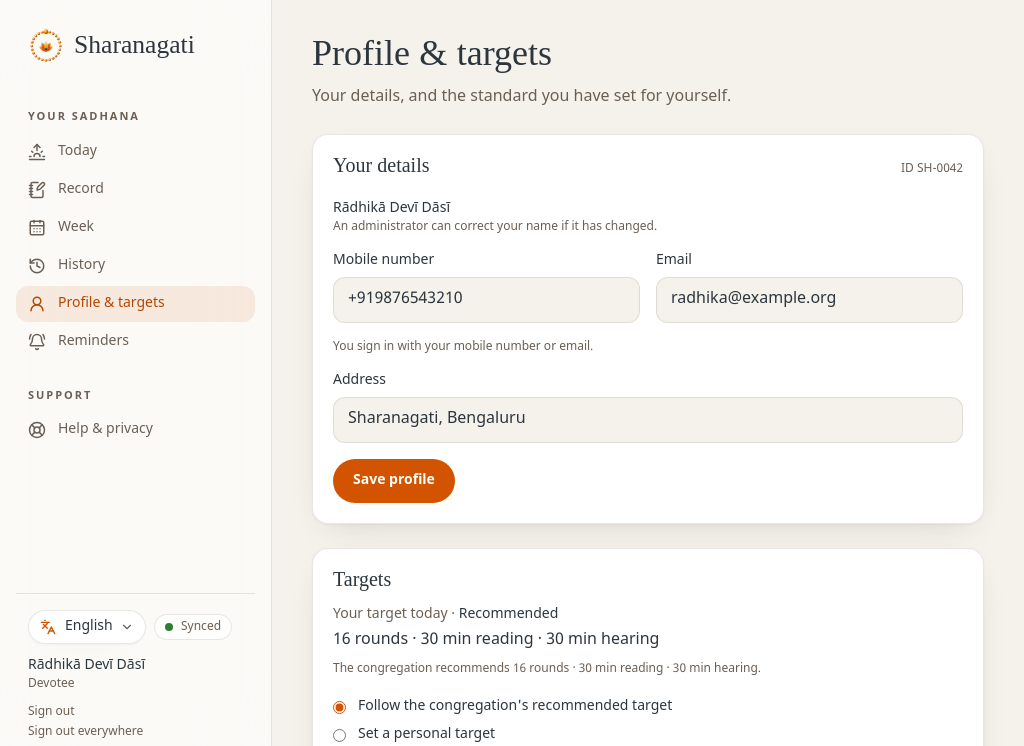
Test: ProfileScreen › sets a personal target from today
Step 1. Click the radio button labelled "Set a personal target" → (340,735), box top-left (333, 728), bottom-right (346, 742)
(page scrolled)
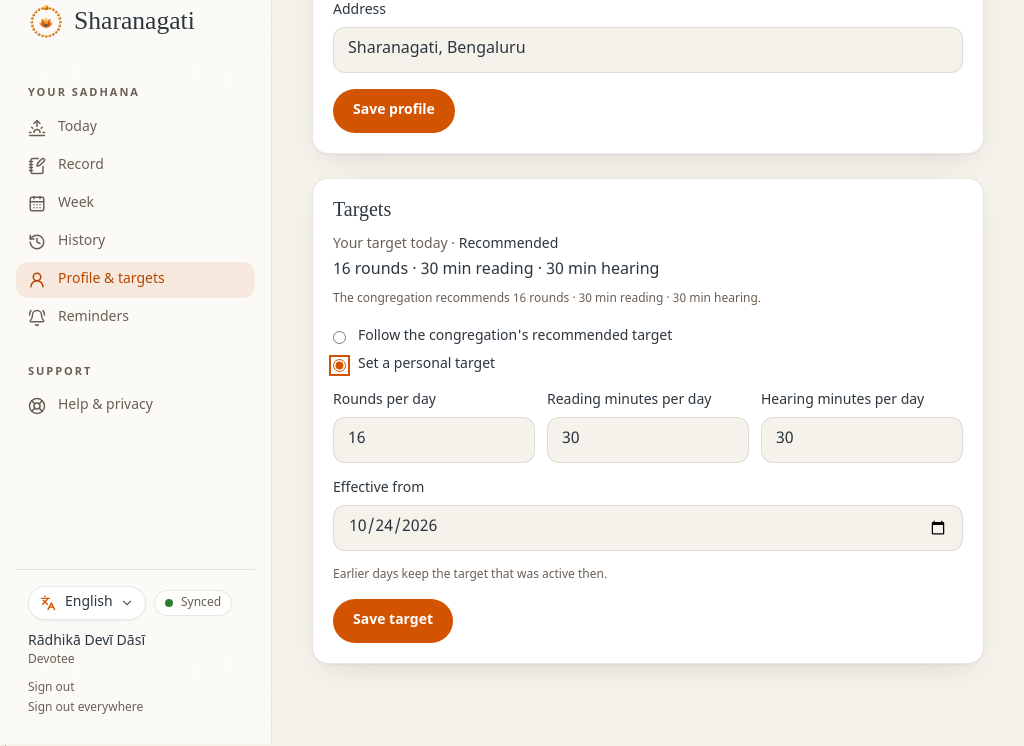
Step 2. Replace the text in the number field labelled "Rounds per day" with "8" → (434,440), box top-left (333, 417), bottom-right (535, 463)
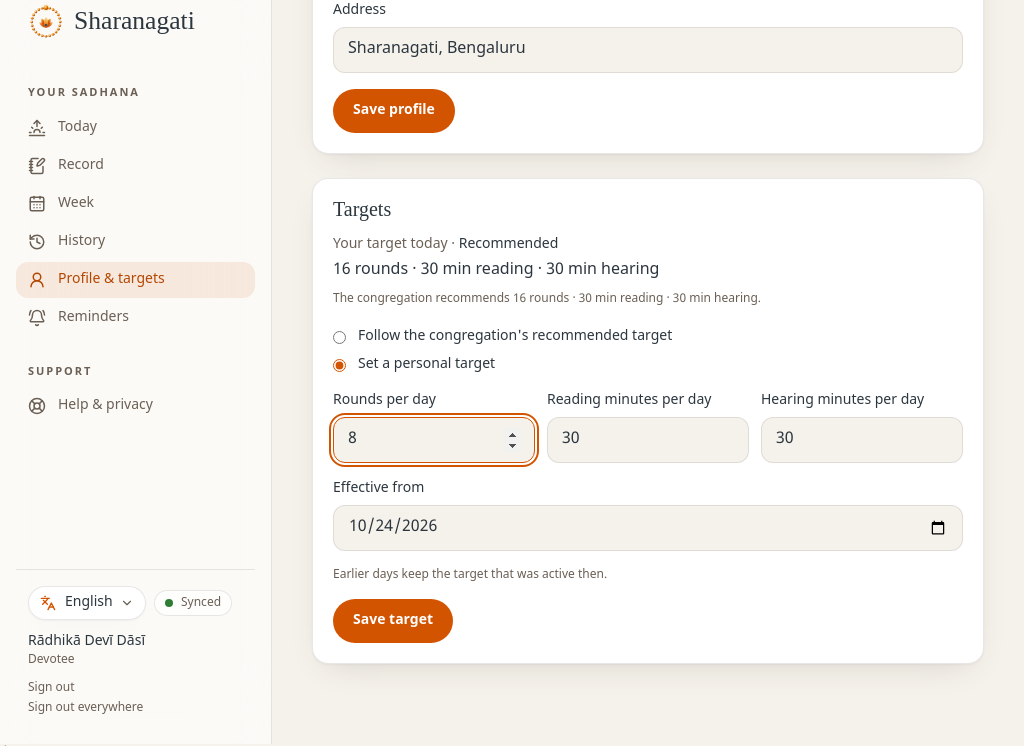
Step 3. Replace the text in the number field labelled "Reading minutes per day" with "15" → (648,440), box top-left (547, 417), bottom-right (749, 463)
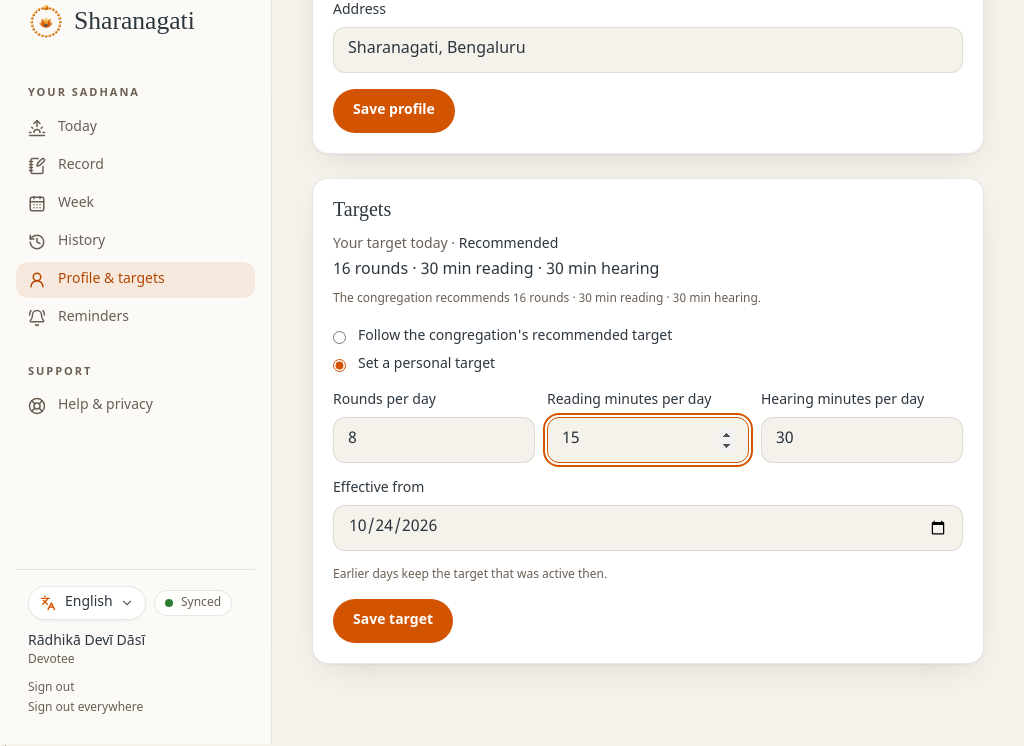
Step 4. Replace the text in the number field labelled "Hearing minutes per day" with "15" → (862,440), box top-left (761, 417), bottom-right (963, 463)
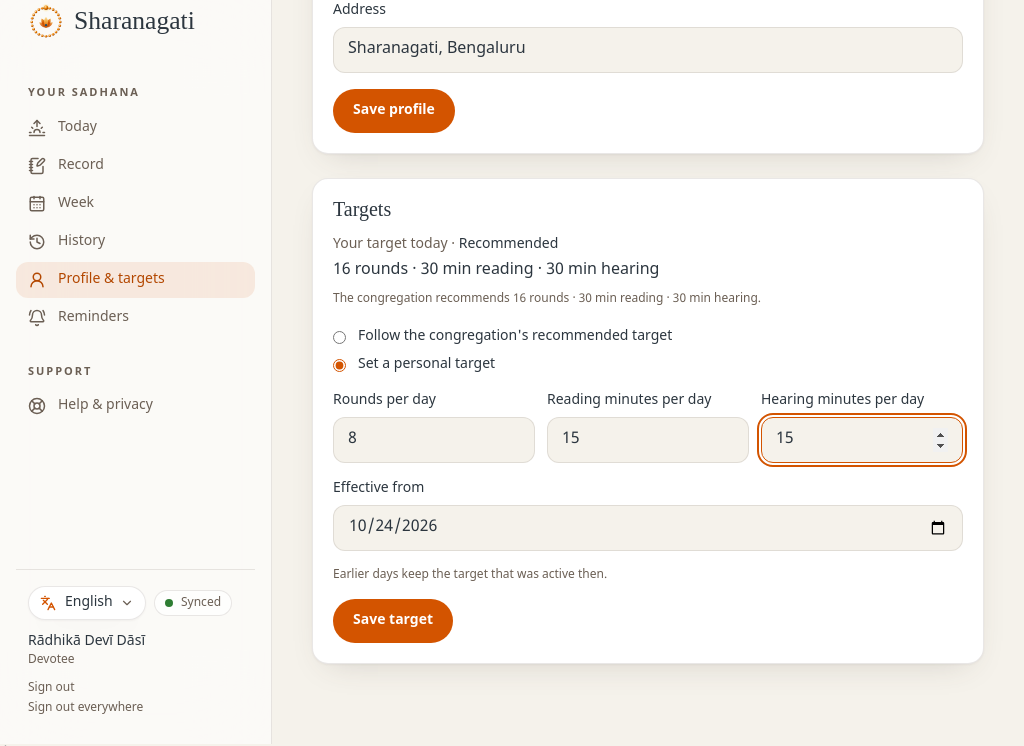
Step 5. Click the button "Save target" → (393,621), box top-left (333, 599), bottom-right (453, 643)
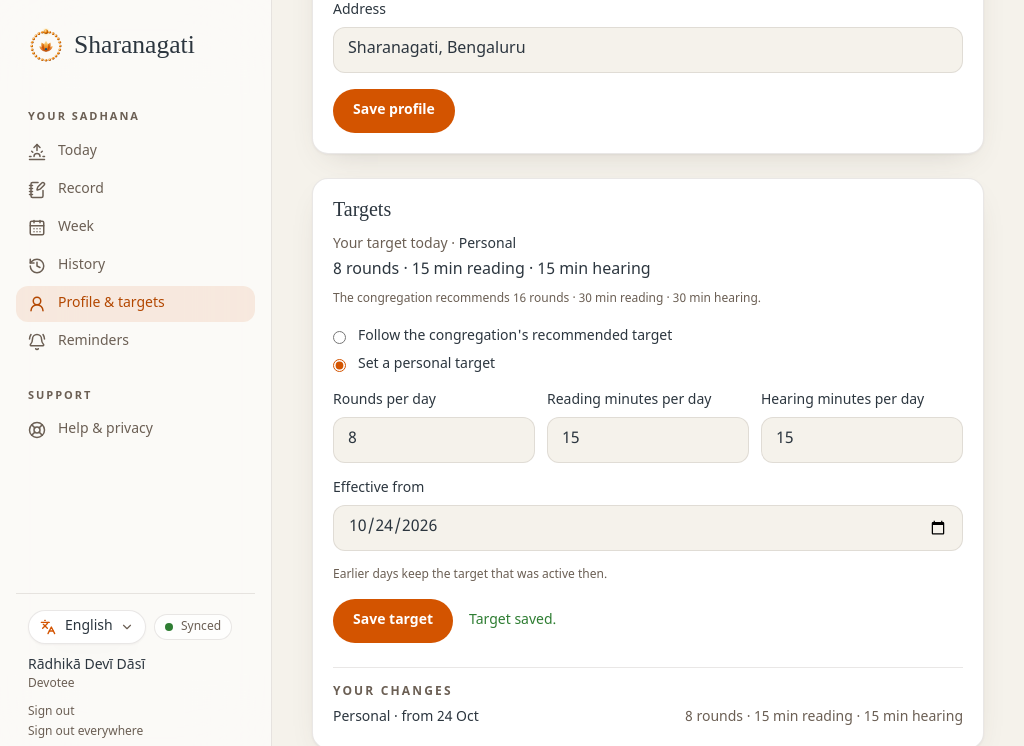
Result: the text "Personal · from 24 Oct" is shown at top-left (333, 708), bottom-right (479, 728)
Result: the 1st text "8 rounds · 15 min reading · 15 min hearing" is shown at top-left (333, 260), bottom-right (651, 281)
